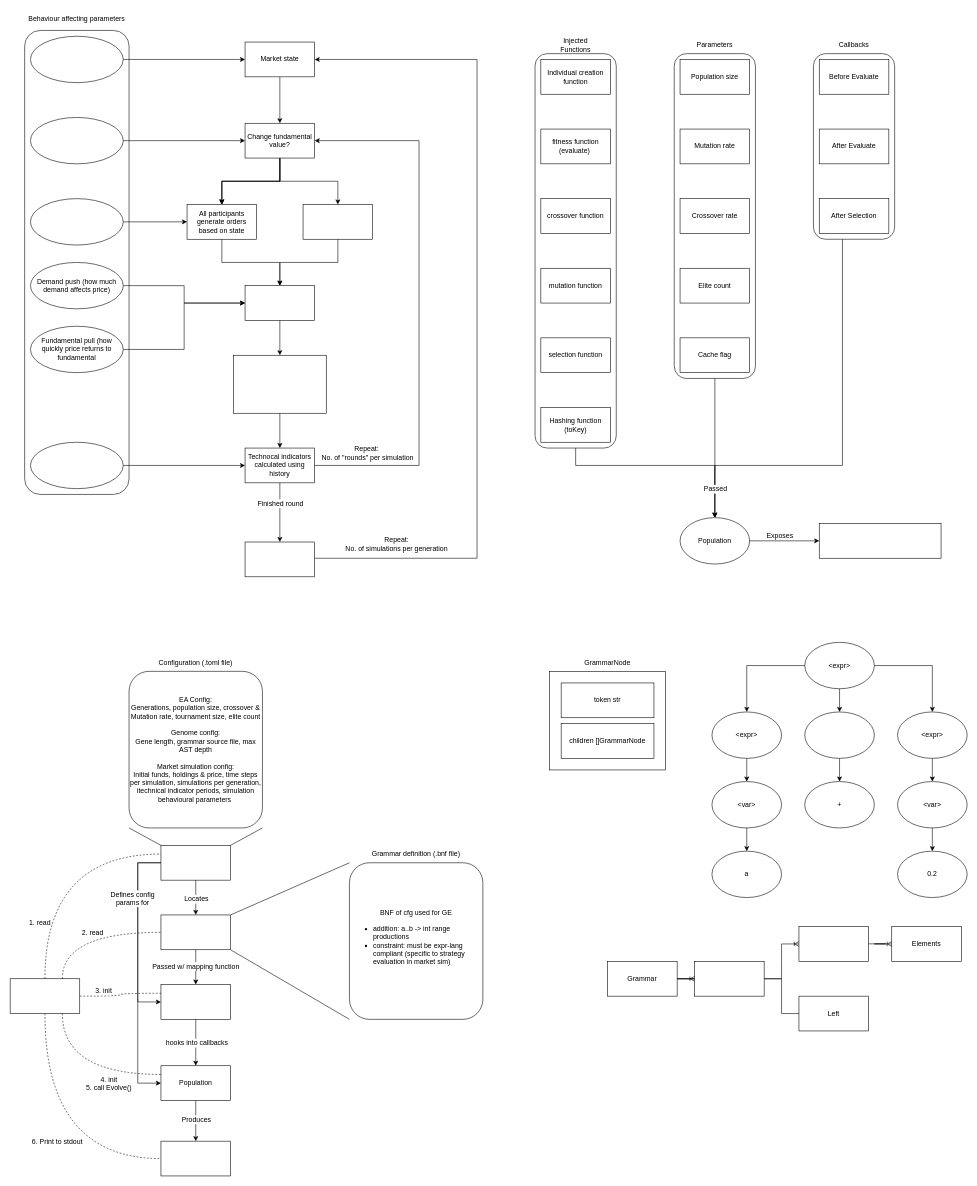
Some shapes in this 977 by 1186 pixel diagram are drawn without their labels. The box of each missing label's shape, as (x1, y1, x2, y2) in pixels:
.bnf file-based CFG: (160, 914, 231, 950)
.toml file-based configuration: (160, 845, 231, 880)
<op>: (804, 711, 874, 758)
Calculate new price: (244, 285, 315, 320)
Default Entrypoint (main.go): (10, 978, 80, 1014)
End results saved: (244, 541, 315, 577)
Initial state: (30, 36, 123, 83)
Market Simulation: (160, 984, 231, 1019)
No. of changes per sim: (30, 117, 123, 164)
Noise orders generated for liquidity to exploit: (302, 204, 373, 239)
Population genetics: (30, 198, 123, 245)
Population.Evolve(generations): (819, 523, 941, 558)
Productions: (798, 926, 869, 961)
Rules: (694, 961, 764, 996)
State (overall market + individual per participant) added to history: (233, 355, 326, 413)
Statistics: (160, 1141, 231, 1176)
Technical indicator periods: (30, 442, 123, 489)
